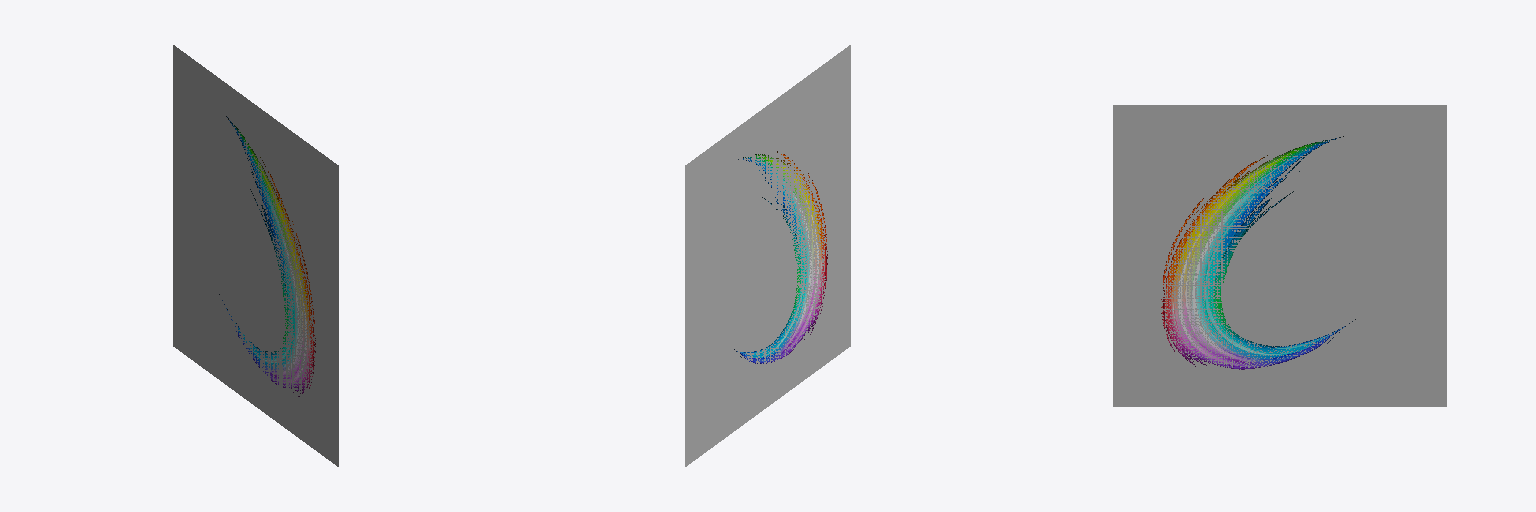
The picture shows the model from 3 angles: view 1: azimuth 30°, elevation 25°; view 2: azimuth 150°, elevation 25°; view 3: azimuth 270°, elevation 25°; orthographic projection.
Visible parts, largest first — view 1: 平面.001, 平面; view 2: 平面.001, 平面; view 3: 平面.001, 平面.
Part boxes in pixels (x1,y1,x2,y2): 平面.001: (173,45,338,466); 平面: (219,116,315,396); 平面.001: (685,45,850,466); 平面: (734,151,827,363); 平面.001: (1113,105,1446,406); 平面: (1161,136,1355,369).
Bounding box in the file's own units: 0 × 2 × 2.
Materials: 2 (1 with a texture image).